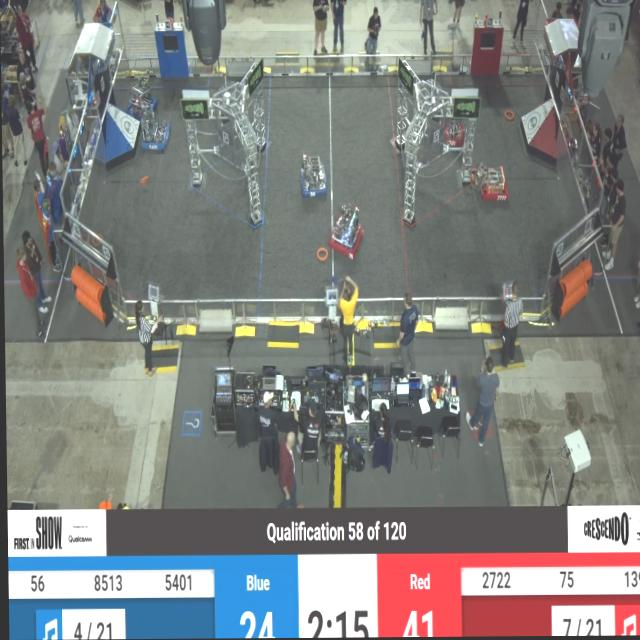Robot: (329, 200, 368, 260), (137, 100, 171, 153), (475, 160, 512, 205), (299, 151, 329, 202), (443, 95, 468, 151), (124, 76, 157, 113)
